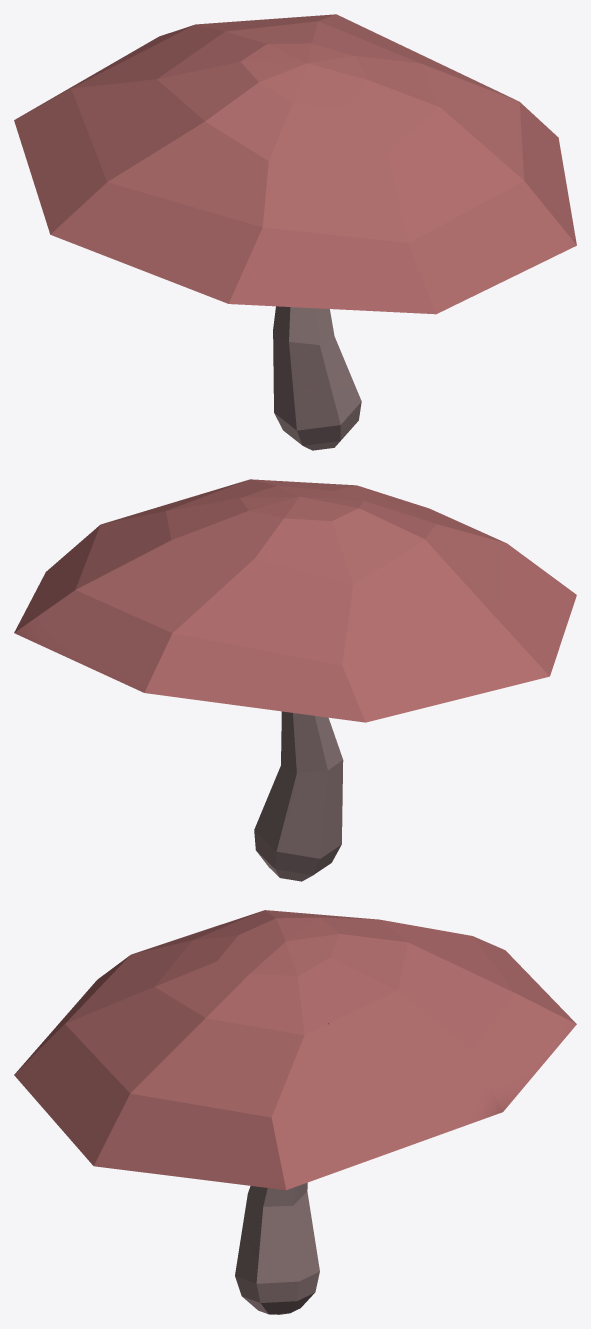
Rendered from mushroom03.gltf.
3 views of the same model, one above another, from view 1: azimuth 30°, elevation 25°; view 2: azimuth 150°, elevation 25°; view 3: azimuth 270°, elevation 25° (orthographic). The views are drawn at different scales.
Visible parts, largest first — view 1: Sphere; view 2: Sphere; view 3: Sphere.
Boxes of the visible parts, box(x1,y1,x2,y2) form: Sphere: box(14, 14, 576, 450); Sphere: box(14, 479, 576, 881); Sphere: box(14, 910, 576, 1314).
Size of the model in its own units: 13.15 by 9.56 by 13.21.
1 material, 1 textured.
